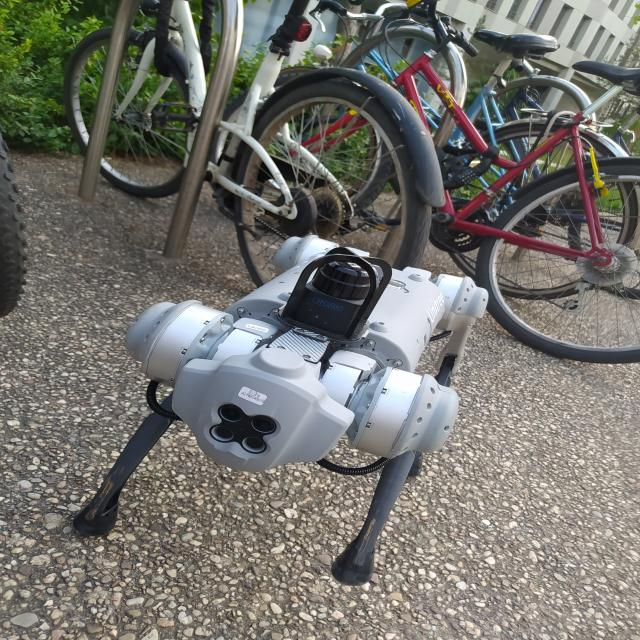unitree-go1-robot: (69, 225, 498, 593)
